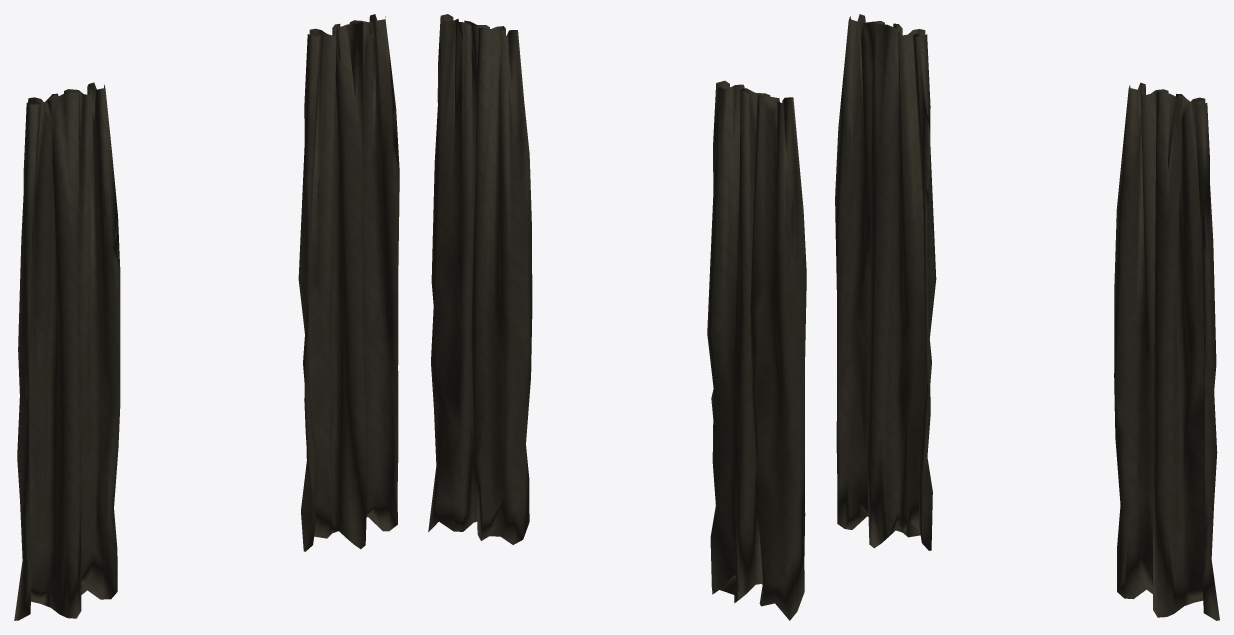
Rendered from CURTAIN LOD 3.fbx.
3 renders of one model, left to right at view 1: azimuth 30°, elevation 25°; view 2: azimuth 150°, elevation 25°; view 3: azimuth 330°, elevation 25°, orthographic.
Parts seen in each view (by area): view 1: CURTAIN LOD 3; view 2: CURTAIN LOD 3; view 3: CURTAIN LOD 3.
Boxes of the visible parts, box(x1,y1,x2,y2) form: CURTAIN LOD 3: box(14, 14, 399, 620); CURTAIN LOD 3: box(428, 14, 806, 620); CURTAIN LOD 3: box(835, 14, 1219, 620).
Size of the model in its own units: 1.83 by 0.1979 by 2.44.
